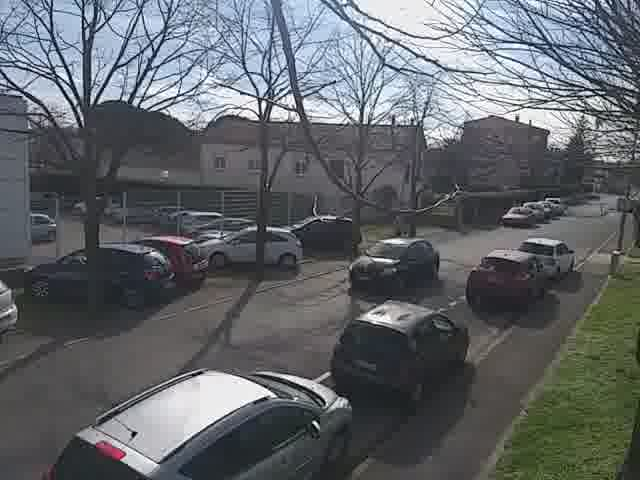persona: (387, 208, 408, 239)
